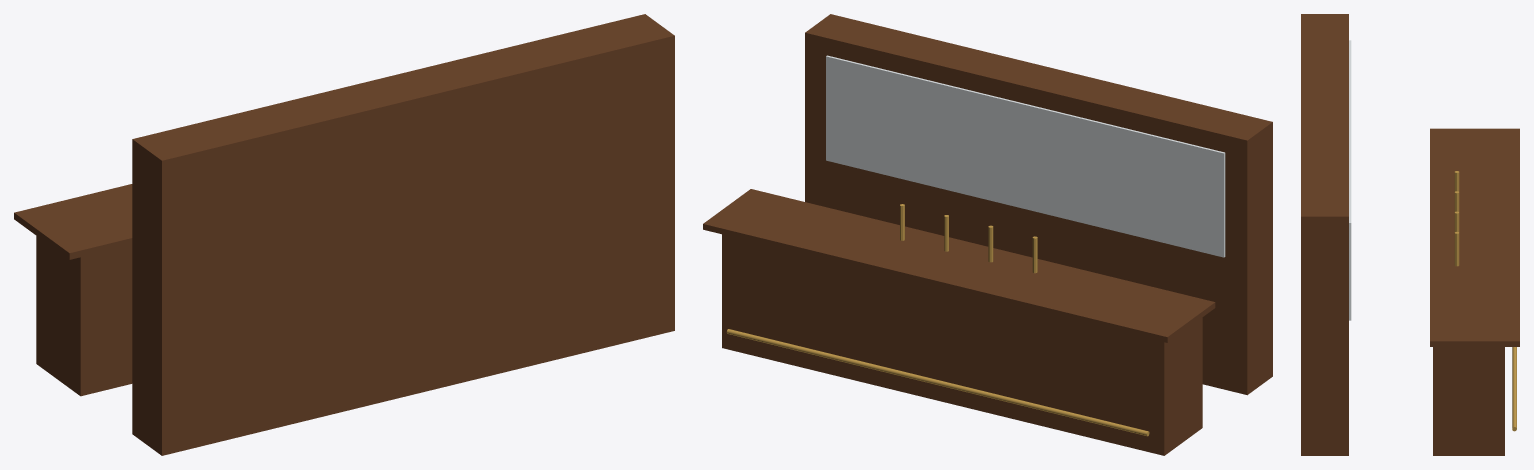
Rendered from hospitality.dining.bar.glb.
3 renders of one model, left to right at view 1: azimuth 30°, elevation 25°; view 2: azimuth 150°, elevation 25°; view 3: azimuth 270°, elevation 25°, orthographic. The views are drawn at different scales.
Parts seen in each view (by area): view 1: main__hardwood; view 2: main__hardwood, main__mirror, main__brass; view 3: main__hardwood, main__brass, main__mirror.
Part boxes in pixels (x1,y1,x2,y2): main__hardwood: (14,14,674,455); main__hardwood: (703,14,1272,455); main__mirror: (826,55,1225,257); main__brass: (726,204,1149,436); main__hardwood: (1301,14,1519,455); main__brass: (1454,171,1516,431); main__mirror: (1349,40,1351,320).
Bounding box in the file's own units: 4.2 × 2.2 × 1.83.
